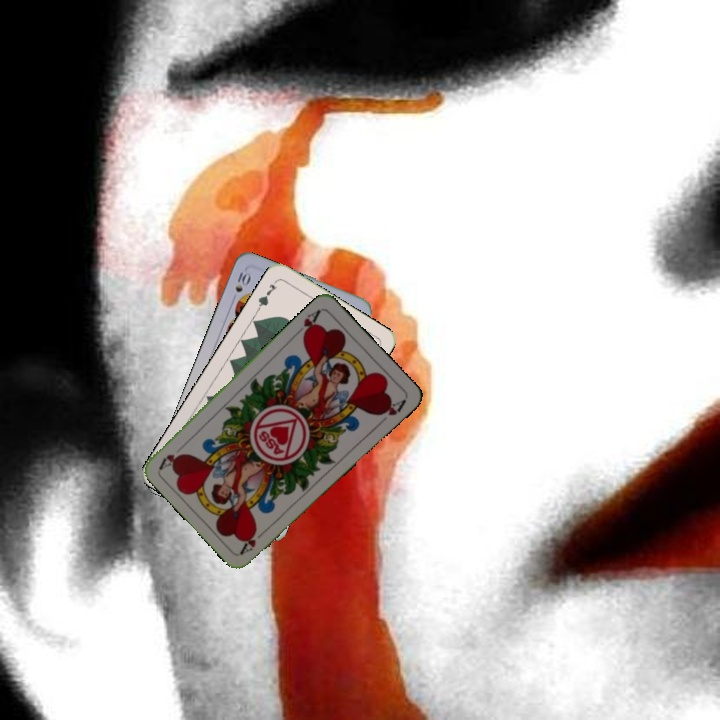G7: (253, 276, 280, 313)
HA: (291, 305, 323, 341), (236, 524, 269, 556)
S10: (228, 266, 253, 305)
